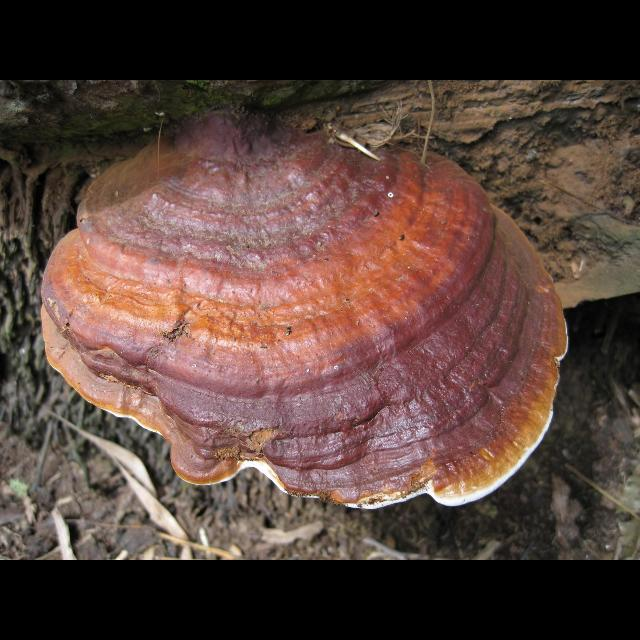ganoderma: (40, 107, 572, 513)
